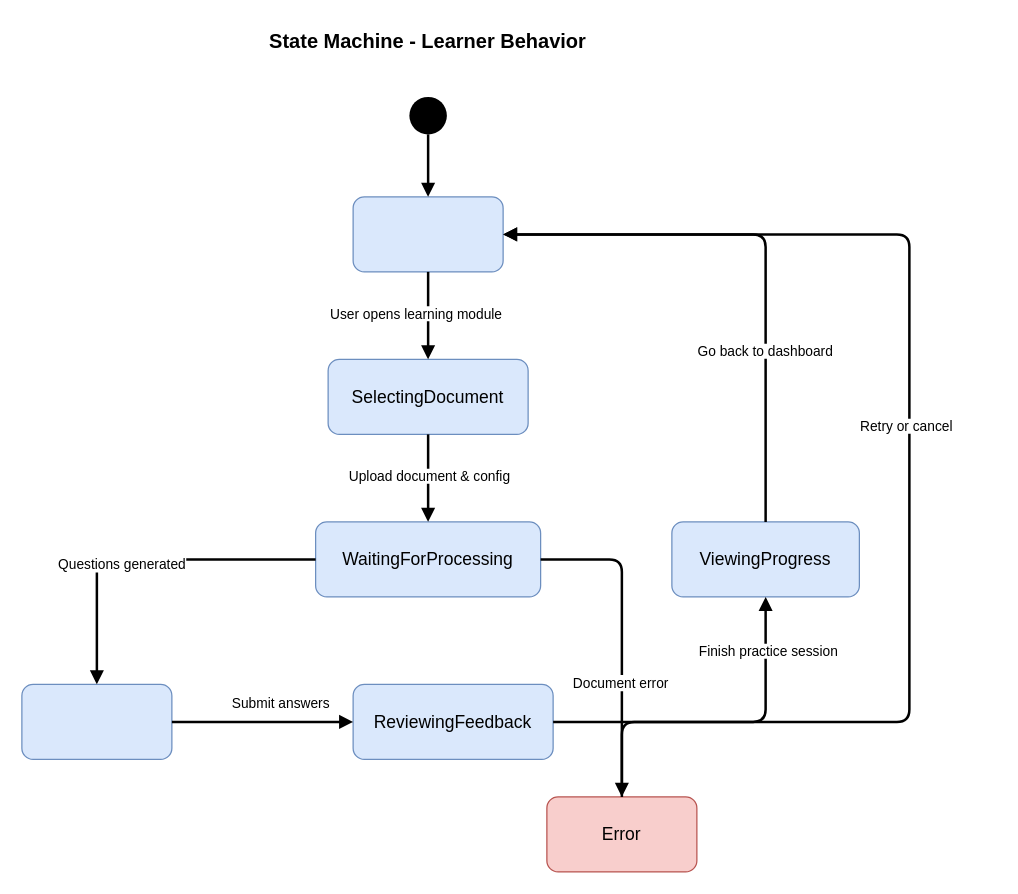
The diagram is 1018 pixels wide and 894 high, and some of its shapes have lost their labels. The centre of each missing label's shape, as x and y in pixels:
Idle: point (427, 234)
Practicing: point (96, 721)
